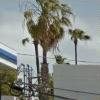Tree: (23, 0, 94, 46)
